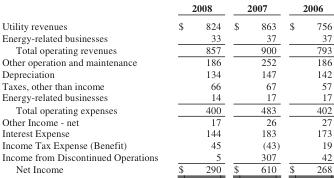table: (1, 0, 331, 174)
table column: (1, 0, 167, 174), (167, 0, 226, 174), (226, 0, 283, 174), (283, 0, 331, 174)
table column header: (1, 0, 331, 16)
table row: (1, 0, 331, 16), (1, 16, 331, 31), (1, 31, 331, 43), (1, 43, 331, 55), (1, 55, 331, 67), (1, 78, 331, 90), (1, 90, 331, 102), (1, 102, 331, 114), (1, 114, 331, 126), (1, 126, 331, 138), (1, 138, 331, 150), (1, 150, 331, 162), (1, 162, 331, 174), (1, 67, 331, 78)
